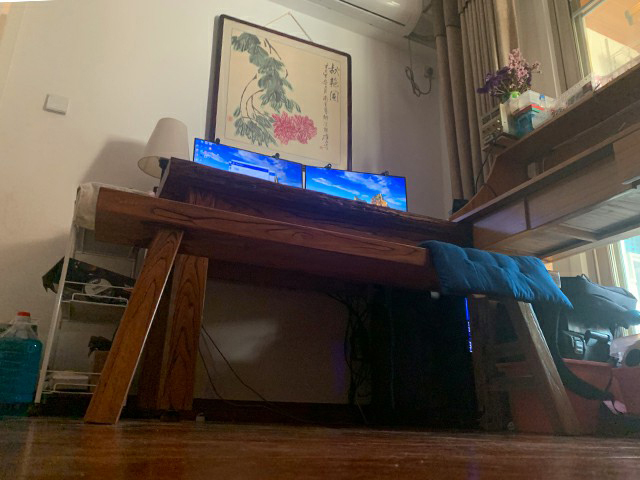stool: (71, 183, 581, 436)
table: (134, 157, 475, 420)
wire: (201, 286, 375, 431)
